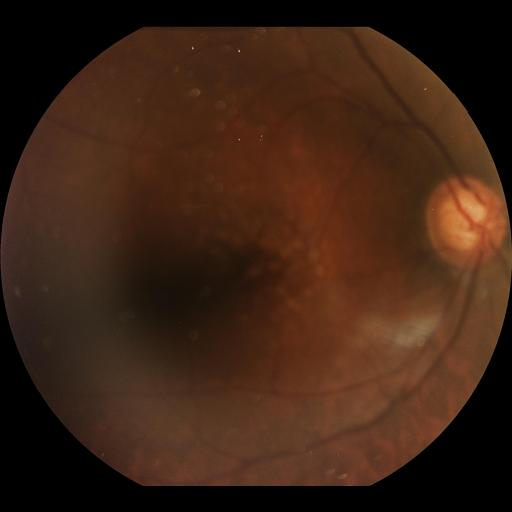Optic Cup: (439, 188, 500, 250)
Optic Disc: (424, 176, 510, 268)
